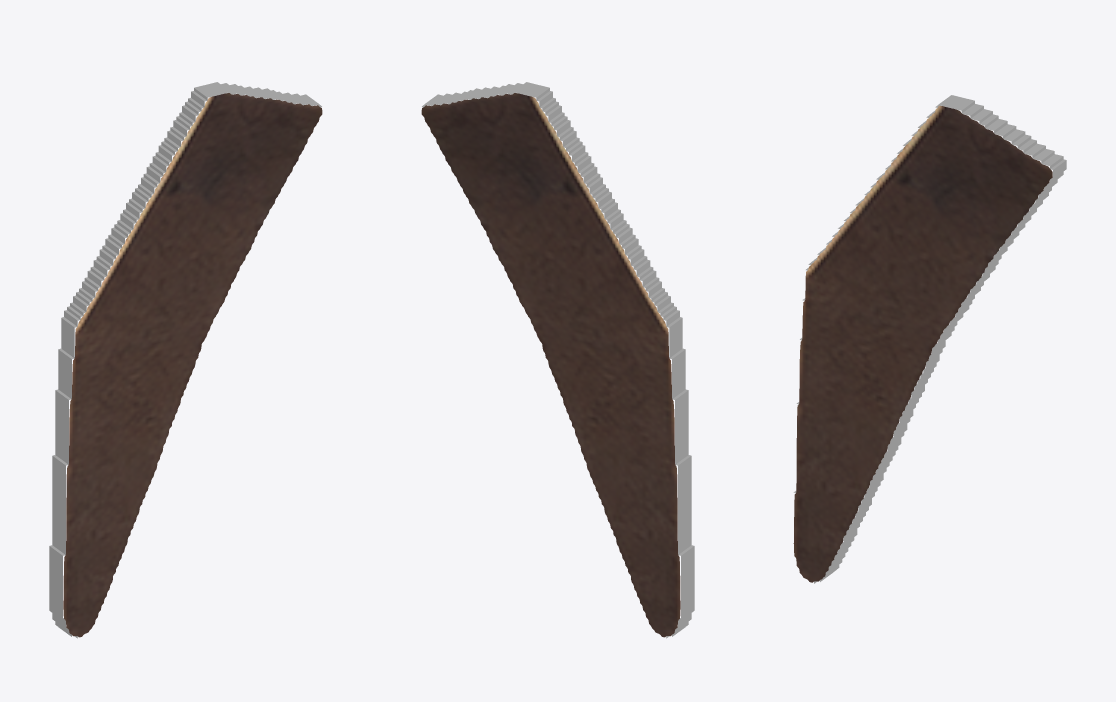
File: Variant05Lower.glb
The picture shows the model from 3 angles, left to right: view 1: azimuth 30°, elevation 25°; view 2: azimuth 150°, elevation 25°; view 3: azimuth 330°, elevation 25°; orthographic projection.
Parts seen in each view (by area): view 1: PaperVolume; view 2: PaperVolume; view 3: PaperVolume.
Boxes of the visible parts, bbox=[...] form: PaperVolume: bbox=[49, 82, 322, 638]; PaperVolume: bbox=[421, 82, 694, 638]; PaperVolume: bbox=[793, 95, 1066, 583].
Bounding box in the file's own units: 1.12 × 1.89 × 0.08.
Materials: 3 (2 with a texture image).
